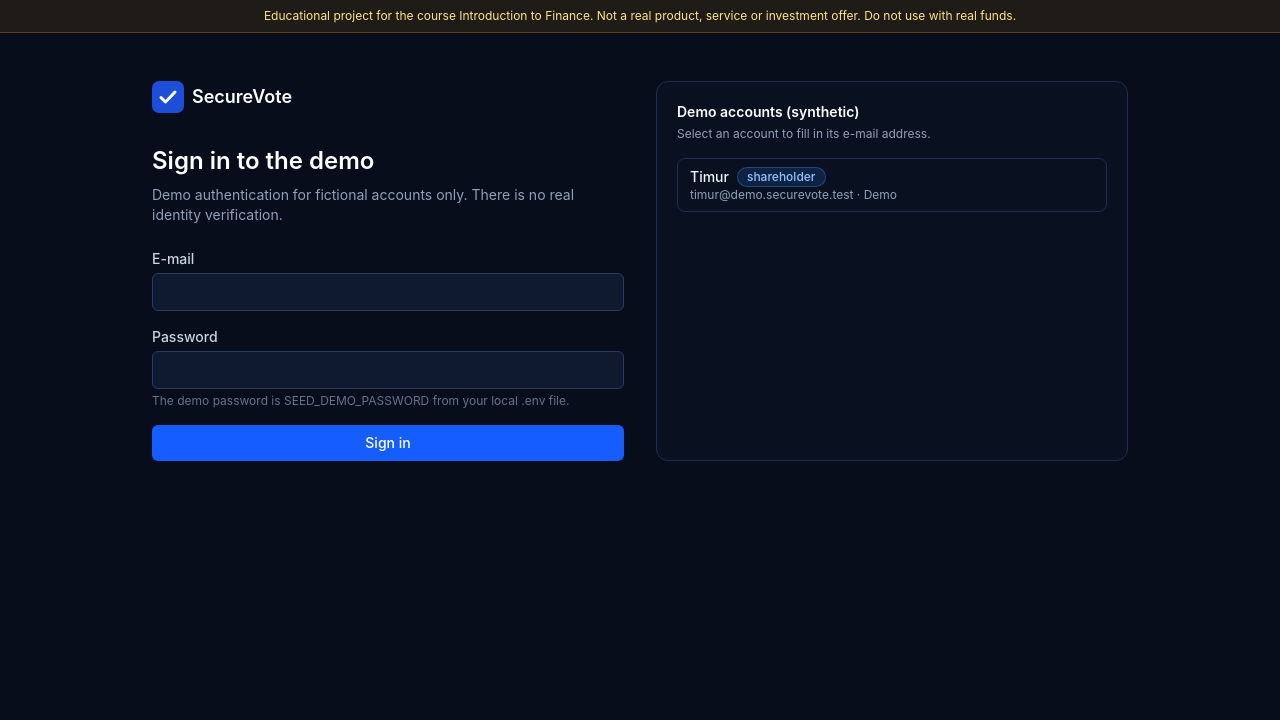
Test: LoginPage › fills the e-mail from a demo account and shows the server's generic error
The image size is (1280, 720).
Click the button "Timur shareholder timur@demo.securevote.test · Demo" at (892, 185), box [677,158,1107,212]
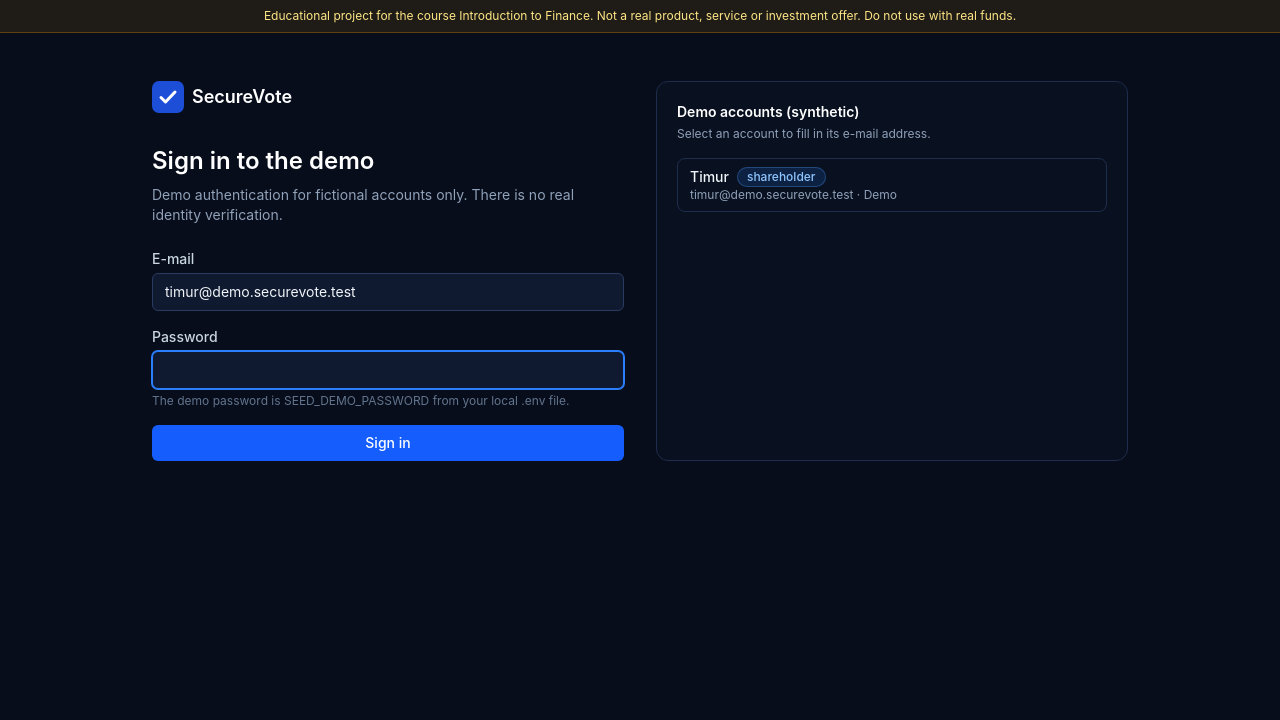
Check: the field labelled "E-mail" holds "timur@demo.securevote.test", box [152,273,624,311]
Type "wrong-password" into the password field labelled "Password" at (388, 370), box [152,351,624,389]
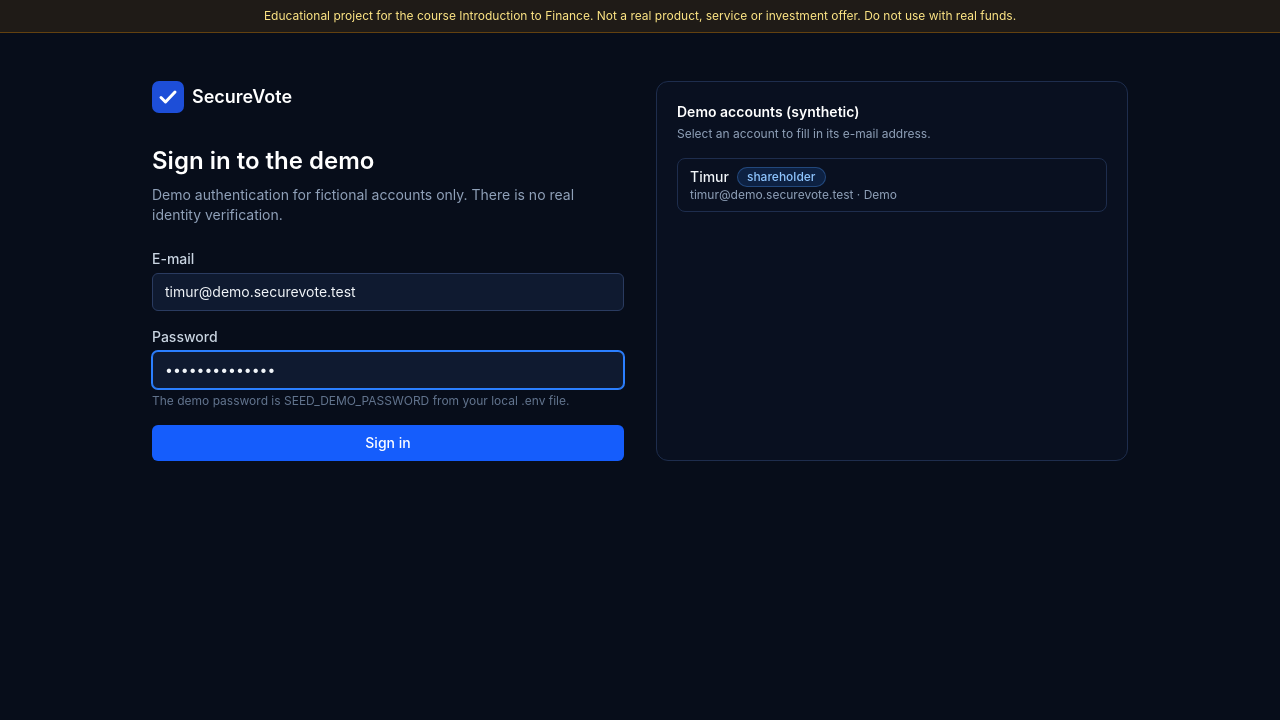
Click the button "Sign in" at (388, 443), box [152,425,624,461]
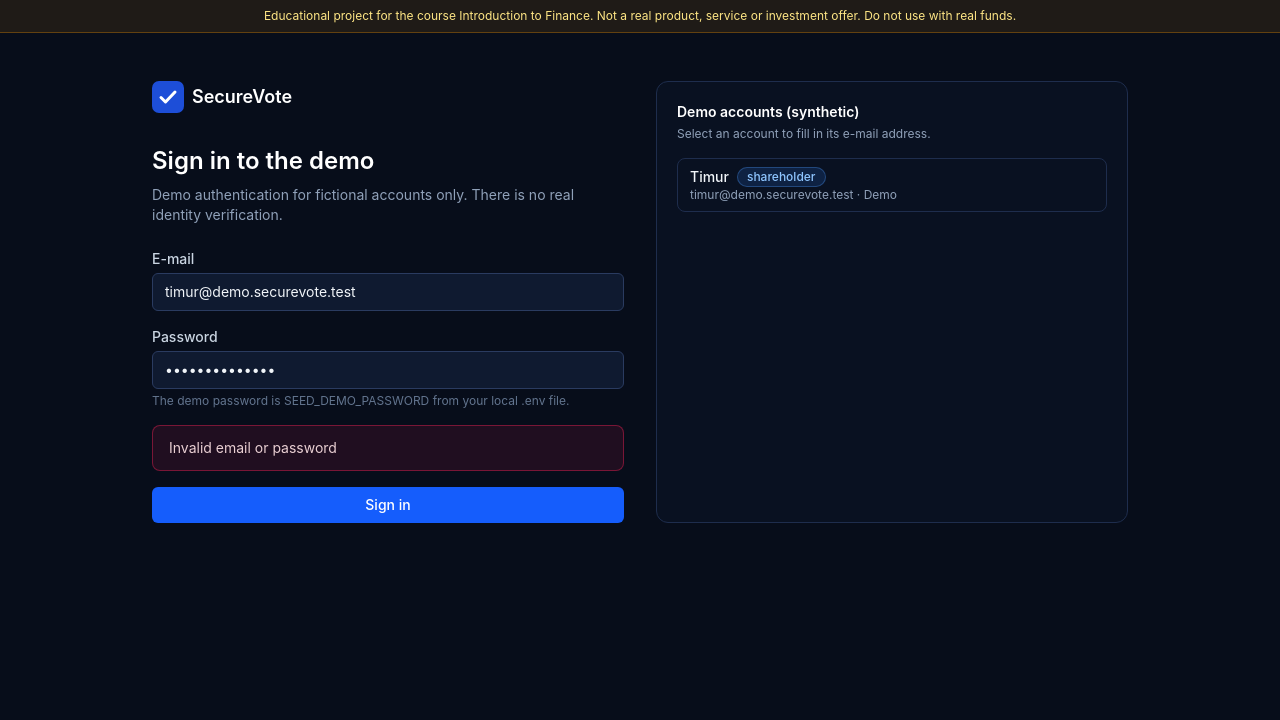
Check: the text "Invalid email or password" is shown, box [169,439,337,456]
